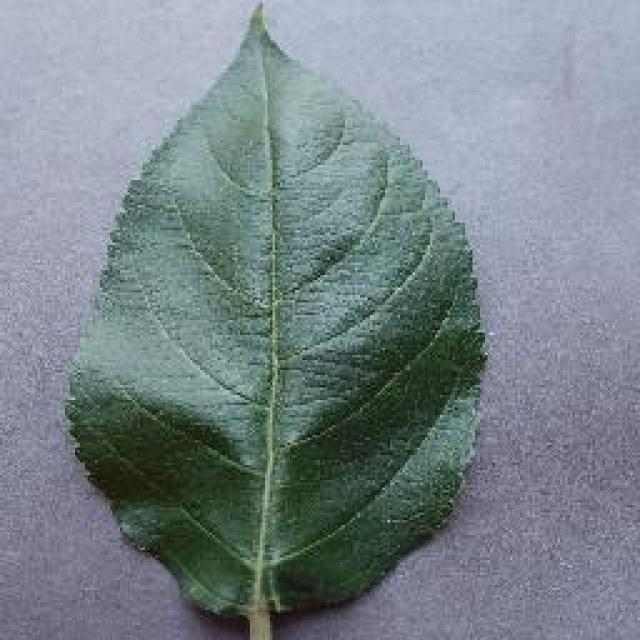apple healthy: (62, 0, 490, 638)
